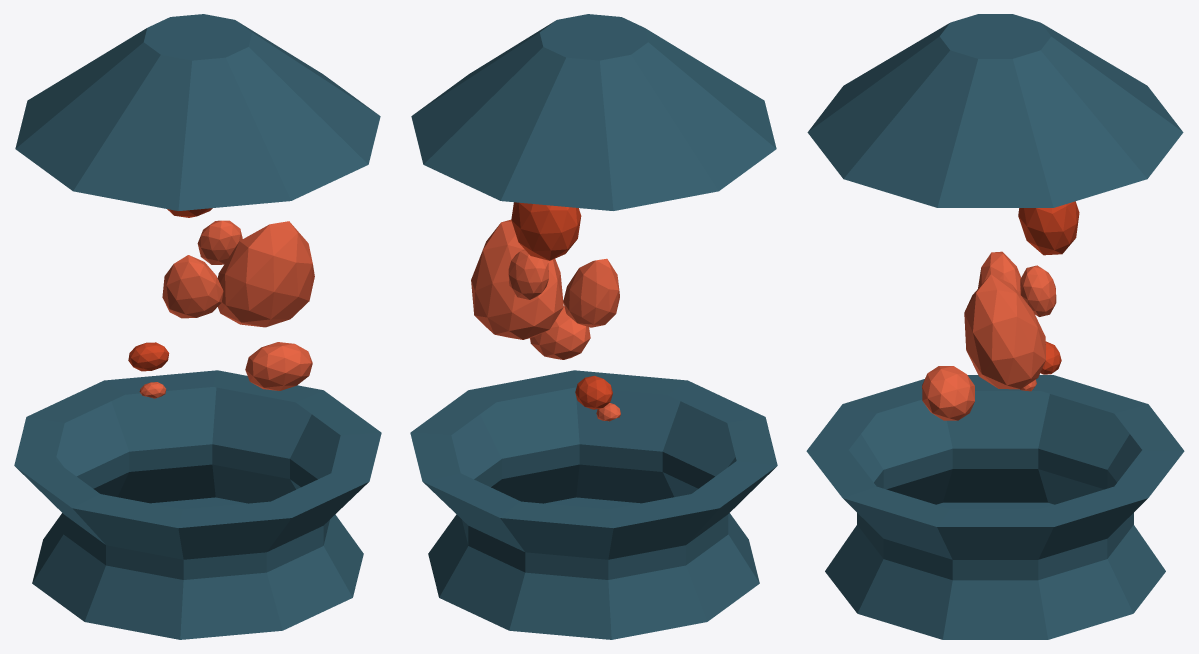
Rendered from lampara_b2.fbx.
3 renders of one model, left to right at view 1: azimuth 30°, elevation 25°; view 2: azimuth 150°, elevation 25°; view 3: azimuth 270°, elevation 25°, orthographic.
Parts seen in each view (by area): view 1: Icosphere.003; view 2: Icosphere.003; view 3: Icosphere.003.
Boxes of the visible parts, x1,y1,x2,y2 form: Icosphere.003: [14, 14, 381, 639]; Icosphere.003: [410, 14, 777, 639]; Icosphere.003: [806, 14, 1184, 639].
Size of the model in its own units: 57.93 by 95.05 by 60.91.
